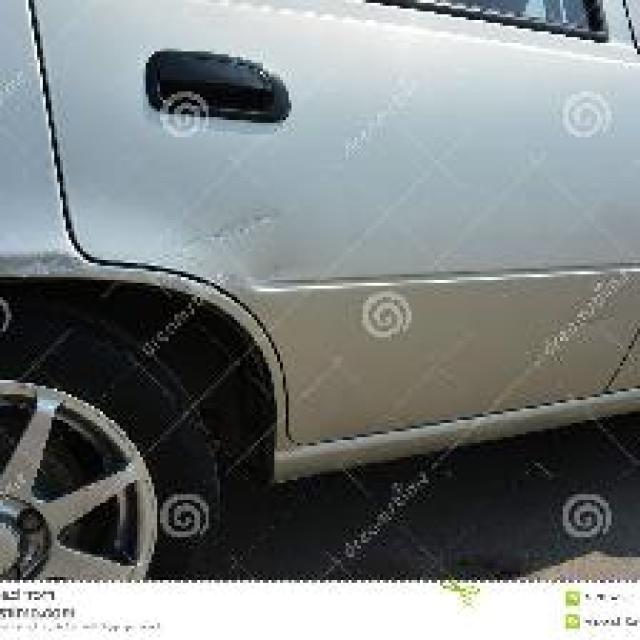door_scratch_severe: (246, 240, 637, 337)
